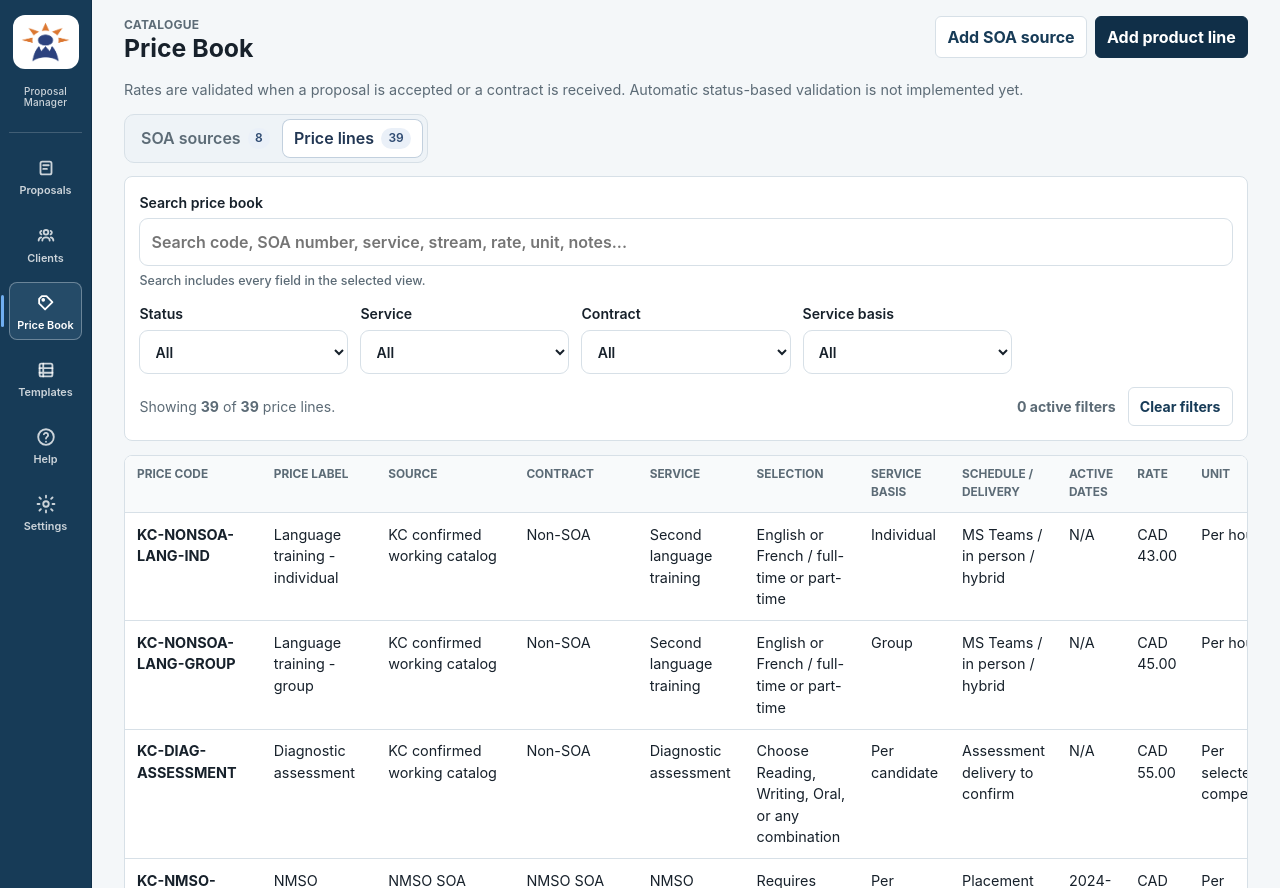
Test: App Phase 2A prototype › navigates to Proposals from another page
The image size is (1280, 888).
Click the button "Proposals".
click(46, 177)  # box [9,148,82,206]
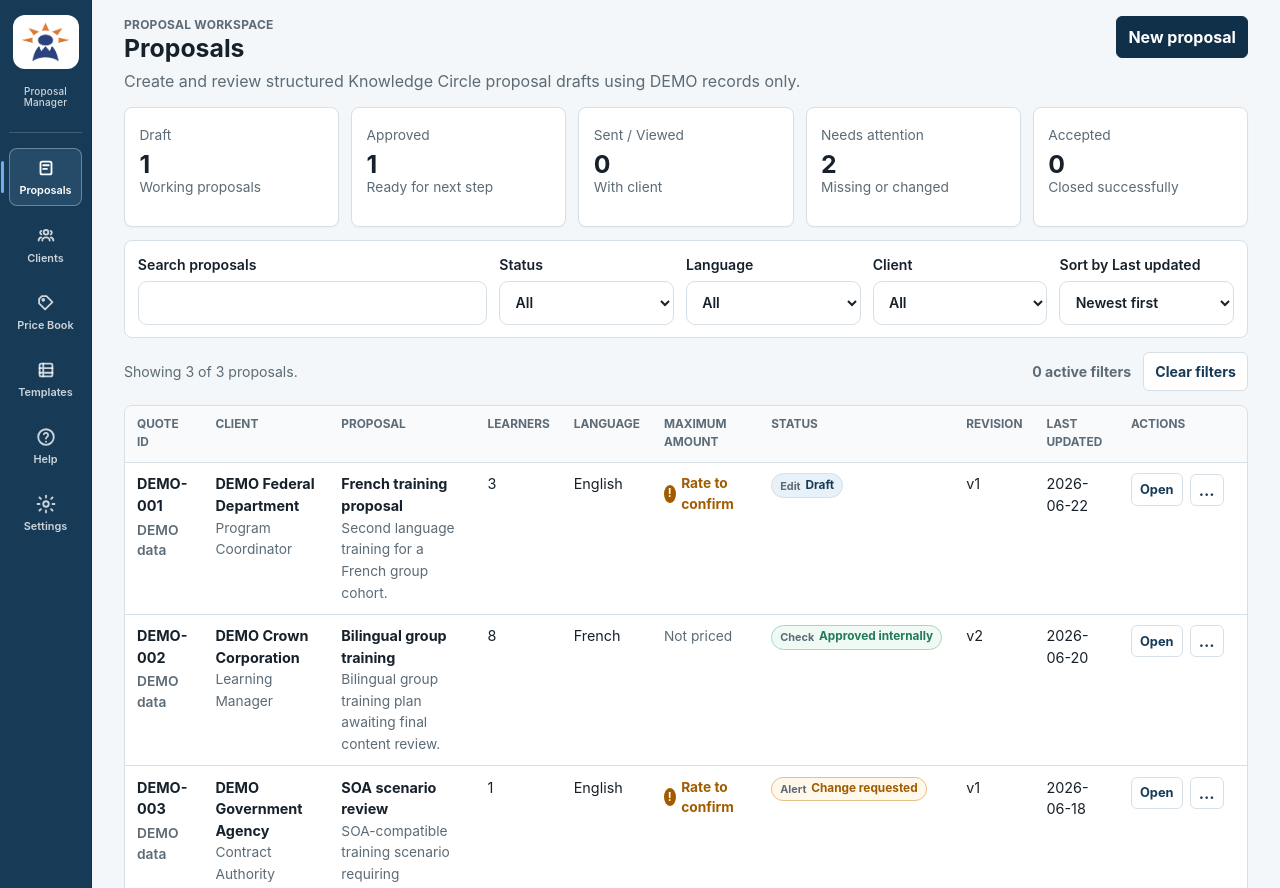
Check: the heading "Proposals" is shown, box [124,33,244,63]
